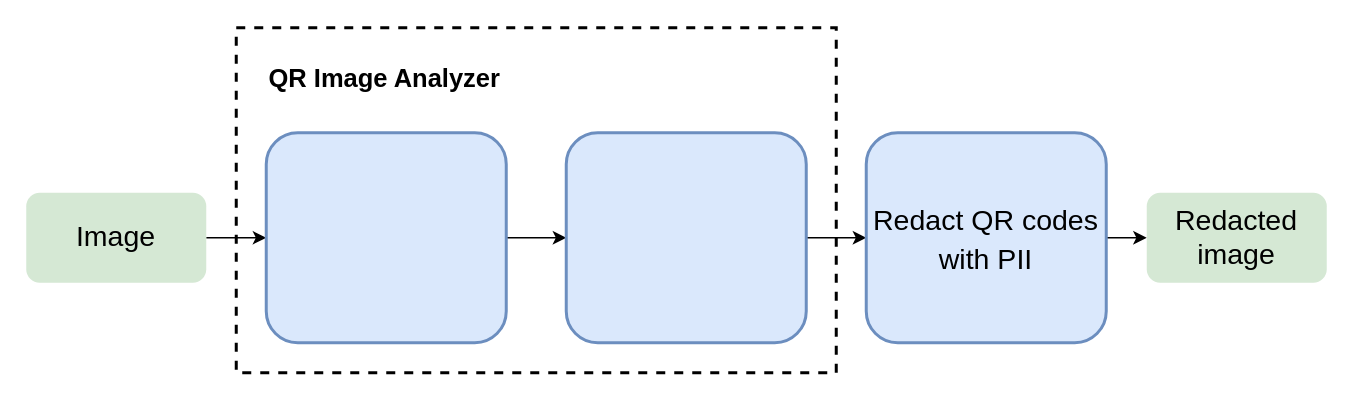
Some shapes in this 1352 by 399 pixel diagram are drawn without their labels. Each missing label, with the centre of its shape:
"Analyze text (Presidio Analyzer)" belongs at (685,237).
"QR Recognizer (detect and decode QR codes)" belongs at (385,237).
